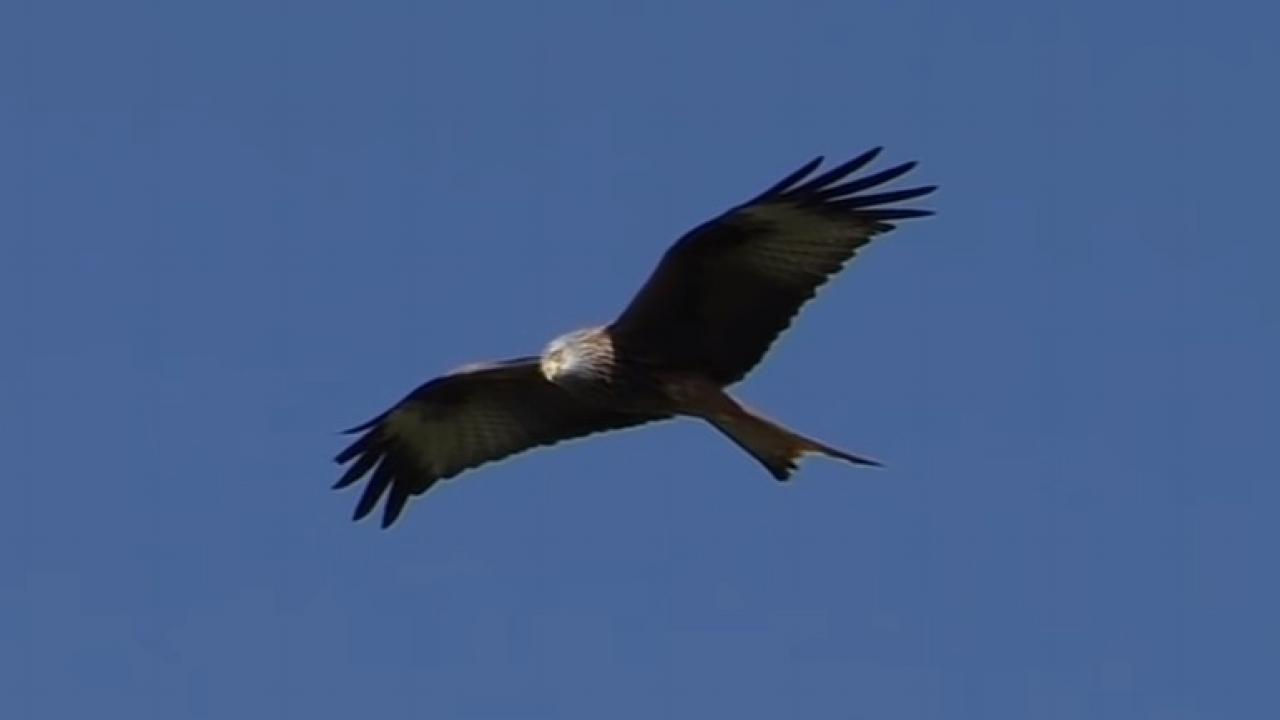Bird: (323, 125, 949, 545)
